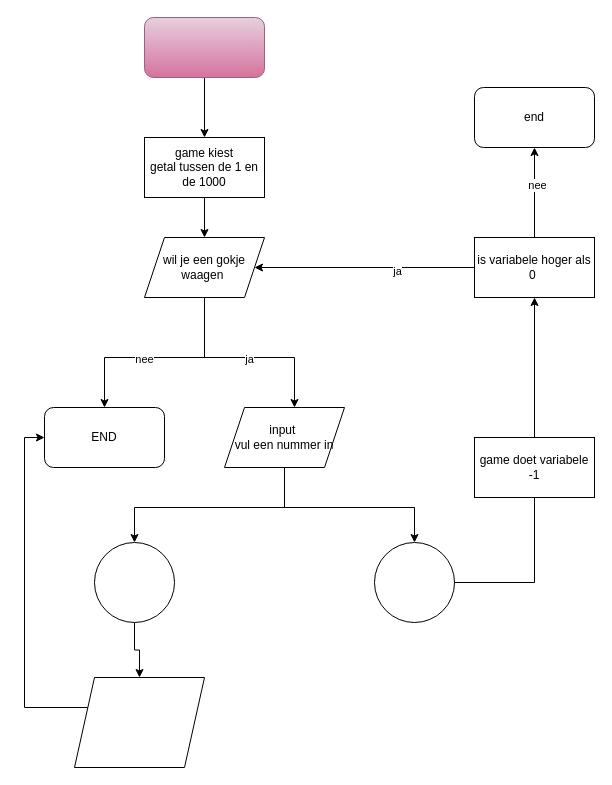
Some shapes in this 612 by 785 pixel diagram are drawn without their labels. Here are the shapes that lost their labels. From the top down, the centre of each, then its label:
At point 204,47: "start".
At point 134,582: "goed".
At point 414,582: "fout".
At point 139,722: "tekst je hebt het goed geraden print variabele aantal punten".
